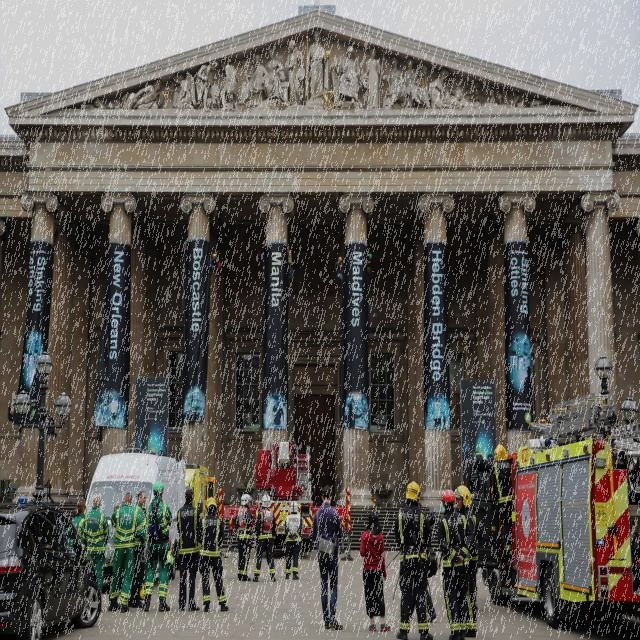pessoa: (90, 27, 552, 113), (394, 480, 442, 640), (434, 488, 474, 640), (474, 444, 514, 566), (311, 484, 344, 630), (108, 491, 144, 614), (399, 498, 433, 625), (452, 484, 480, 638), (142, 479, 174, 613), (358, 511, 392, 633), (198, 497, 229, 613), (176, 488, 204, 612), (126, 489, 152, 608), (84, 493, 110, 597), (252, 493, 278, 583), (42, 534, 80, 595), (464, 432, 494, 499), (233, 492, 254, 582), (282, 500, 304, 580), (72, 500, 88, 596), (428, 394, 449, 430), (264, 394, 286, 428), (102, 390, 120, 428), (342, 401, 366, 429), (522, 364, 532, 406), (111, 503, 123, 512)
